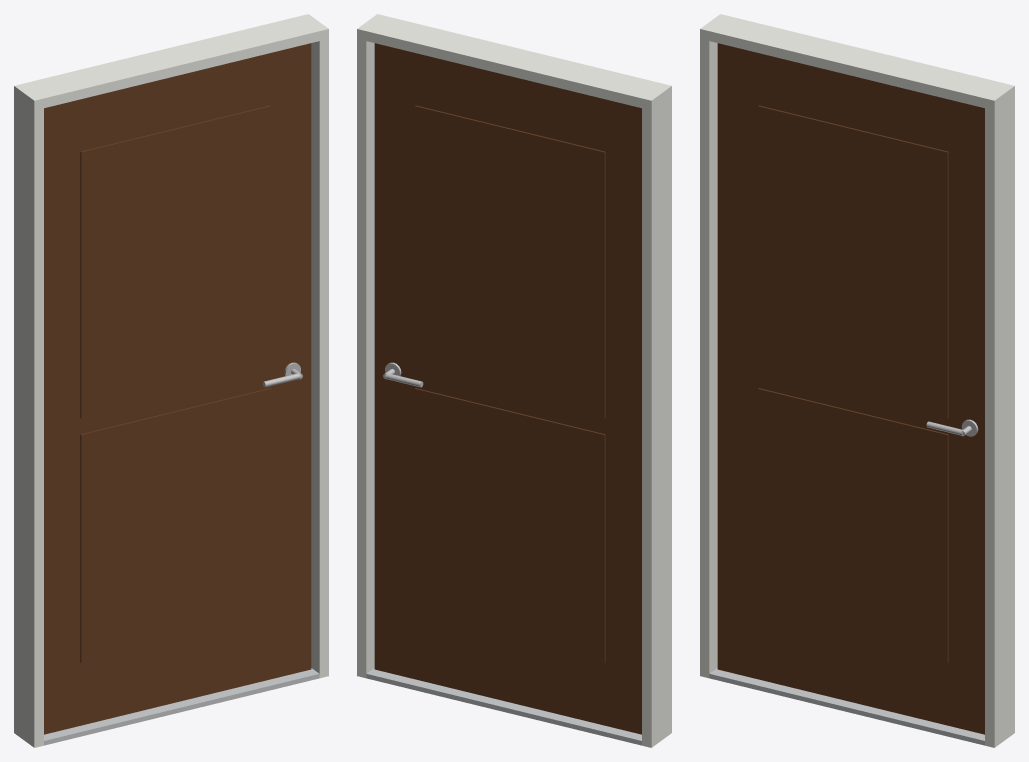
File: opening.door.front_wide.glb
3 views of the same model, side by side, from view 1: azimuth 30°, elevation 25°; view 2: azimuth 150°, elevation 25°; view 3: azimuth 330°, elevation 25° (orthographic).
Visible parts, largest first — view 1: leaf__hardwood, frame__paint_white, frame__aluminium; view 2: leaf__hardwood, frame__paint_white, frame__aluminium; view 3: leaf__hardwood, frame__paint_white, frame__aluminium.
Boxes of the visible parts, x1,y1,x2,y2 form: leaf__hardwood: [44, 43, 311, 734]; frame__paint_white: [14, 14, 328, 747]; frame__aluminium: [44, 668, 319, 745]; leaf__hardwood: [374, 43, 641, 734]; frame__paint_white: [357, 14, 671, 747]; frame__aluminium: [366, 668, 641, 745]; leaf__hardwood: [717, 43, 984, 734]; frame__paint_white: [700, 14, 1014, 747]; frame__aluminium: [709, 668, 984, 745].
Bounding box in the file's own units: 1 × 2.1 × 0.148.
